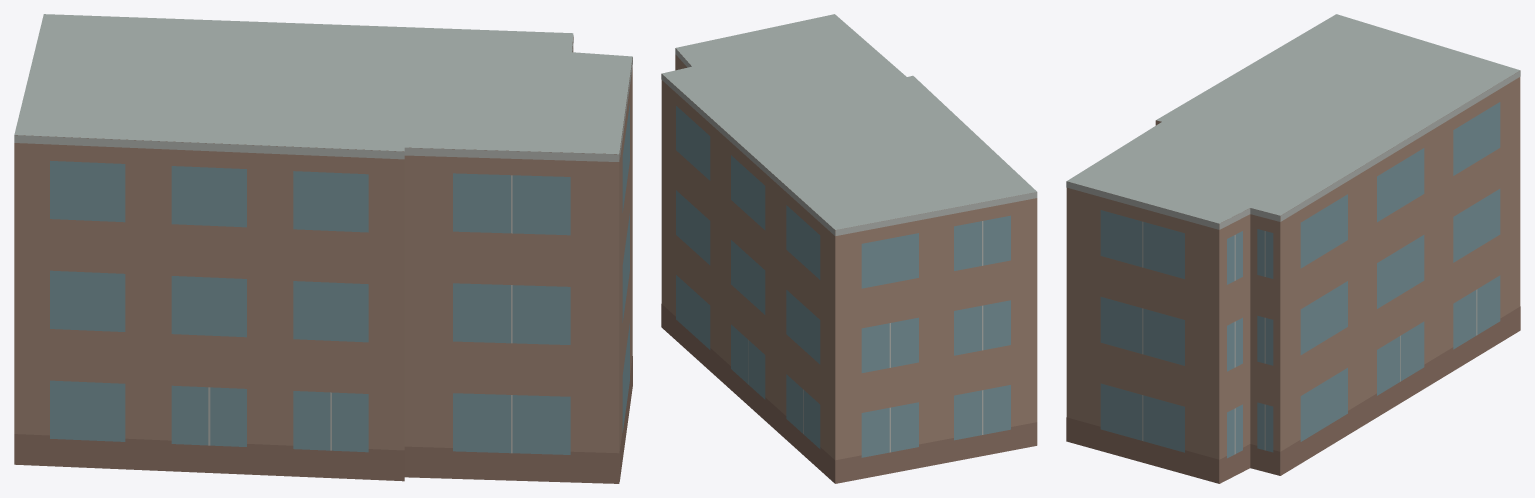
Rendered from survey-upis-32803322.glb.
3 views of the same model, side by side, from view 1: azimuth 30°, elevation 25°; view 2: azimuth 150°, elevation 25°; view 3: azimuth 270°, elevation 25° (orthographic). The views are drawn at different scales.
Visible parts, largest first — view 1: survey-upis-32803322.tmp; view 2: survey-upis-32803322.tmp; view 3: survey-upis-32803322.tmp.
Part boxes in pixels (x1,y1,x2,y2): survey-upis-32803322.tmp: (14,14,632,483); survey-upis-32803322.tmp: (661,14,1037,483); survey-upis-32803322.tmp: (1066,14,1520,483).
Bounding box in the file's own units: 17.46 × 10.1 × 15.97.
